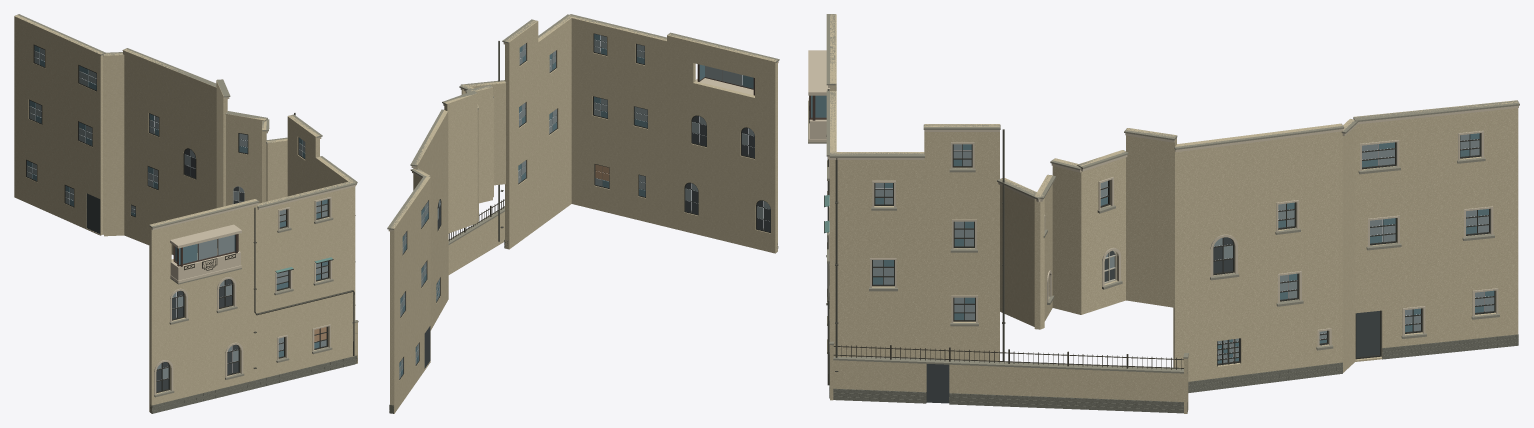
The model's file is xuhui-taiyuan-lane-4-cihui-village-lod.glb.
The picture shows the model from 3 angles, left to right: view 1: azimuth 30°, elevation 25°; view 2: azimuth 150°, elevation 25°; view 3: azimuth 270°, elevation 25°; orthographic projection. The views are drawn at different scales.
Visible parts, largest first — view 1: 慈惠村太原路4弄1—2号临街转角; view 2: 慈惠村太原路4弄1—2号临街转角; view 3: 慈惠村太原路4弄1—2号临街转角.
Part boxes in pixels (x1=…): 慈惠村太原路4弄1—2号临街转角: x1=14, y1=14, x2=358, y2=413; 慈惠村太原路4弄1—2号临街转角: x1=387, y1=14, x2=779, y2=413; 慈惠村太原路4弄1—2号临街转角: x1=808, y1=14, x2=1519, y2=413.
Bounding box in the file's own units: 14.18 × 11.78 × 27.99.
15 materials, 2 textured.
